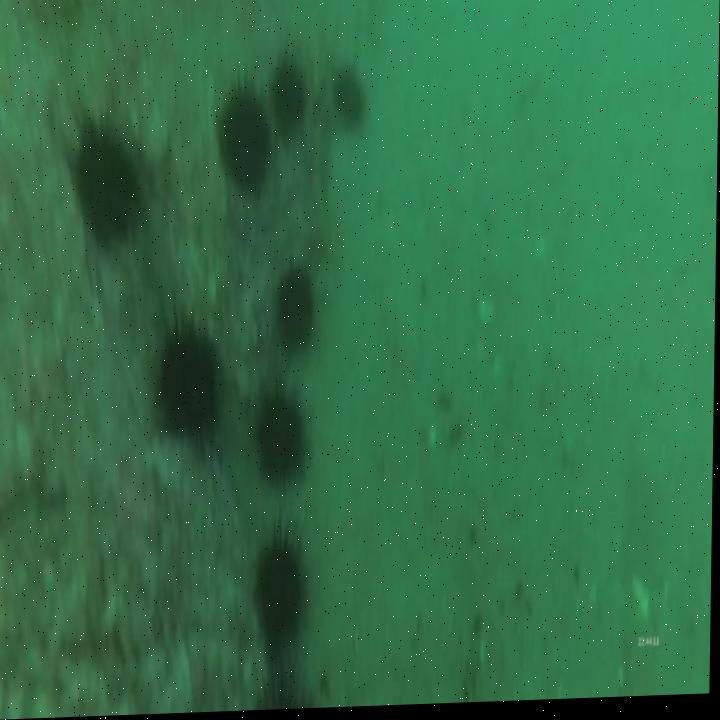echinus: (149, 297, 228, 458), (63, 109, 147, 259), (253, 522, 317, 661), (215, 74, 275, 214), (252, 372, 313, 496), (272, 261, 320, 365), (328, 56, 379, 147), (268, 49, 310, 149), (250, 675, 315, 712)
